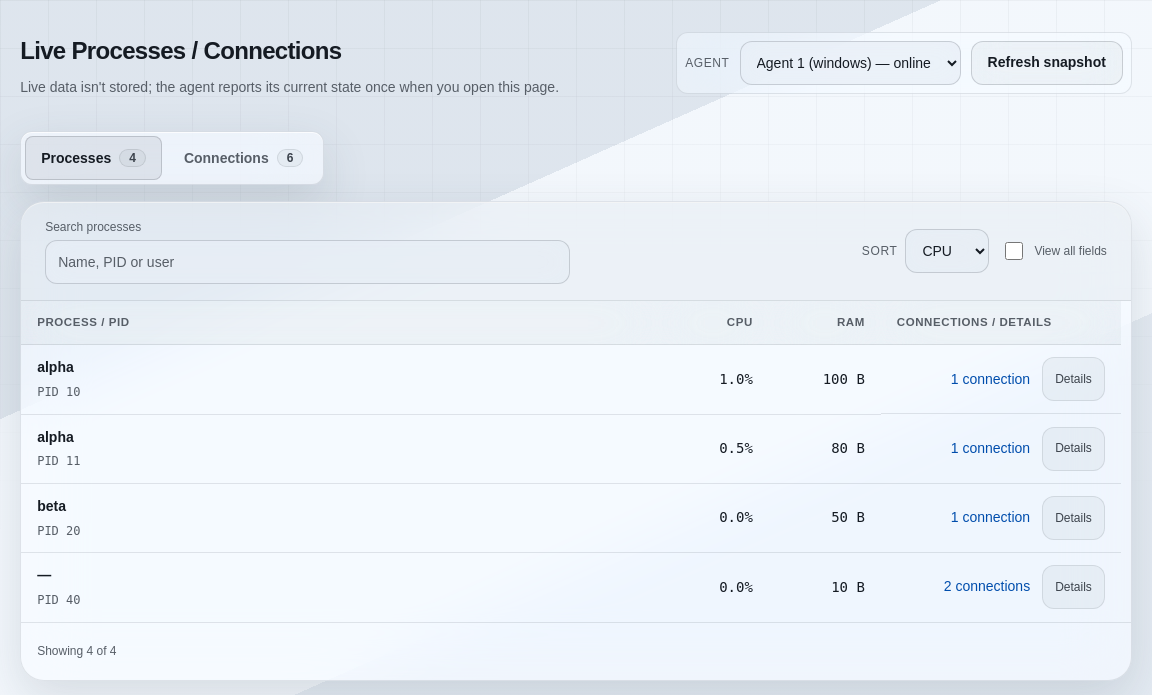
Test: Processes network-connection filtering › aggregates same-name PIDs by default and isolates an exact PID on demand
Click the button with class "connection-action" in the row of "PID 10" at (990, 380), box [951, 358, 1030, 402]
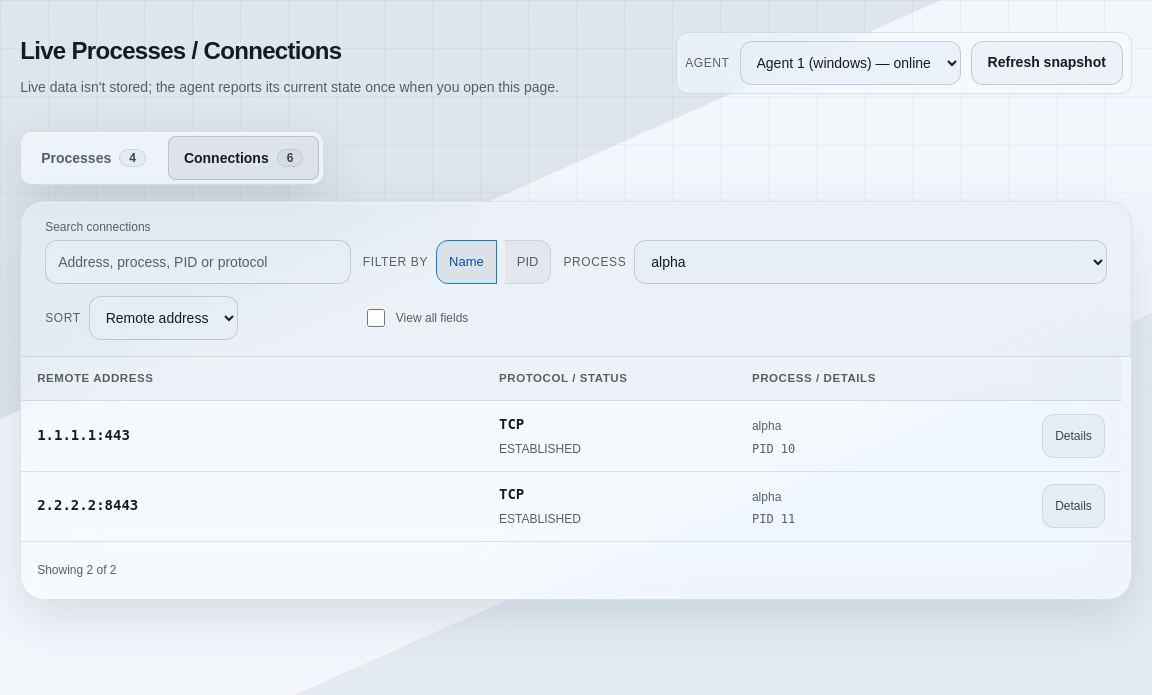
Result: the panel shows "1.1.1.1:443" at [37, 427, 130, 443]
Result: the panel shows "2.2.2.2:8443" at [37, 497, 138, 513]
Result: the dropdown with id "conn-filter" shows "alpha" at [634, 240, 1107, 284]
Click the button "PID" at (528, 262), box [505, 240, 551, 284]
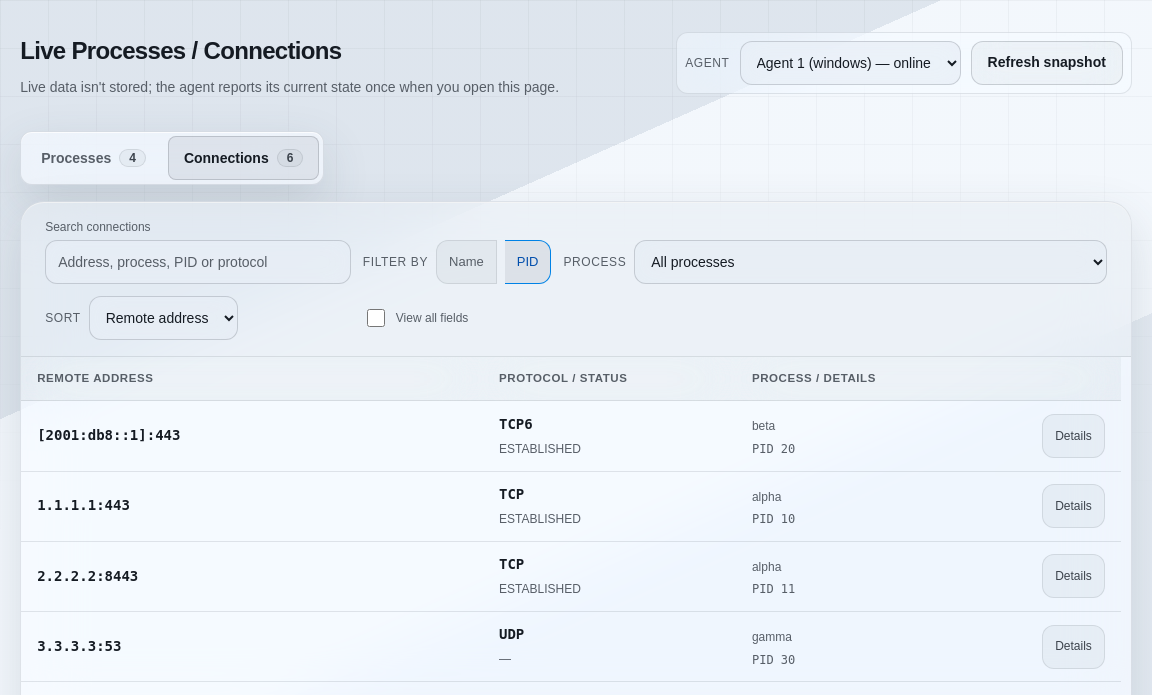
Result: the dropdown with id "conn-filter" shows "All processes"
Select "alpha (10)" in the dropdown with id "conn-filter" at (871, 262), box [634, 240, 1107, 284]
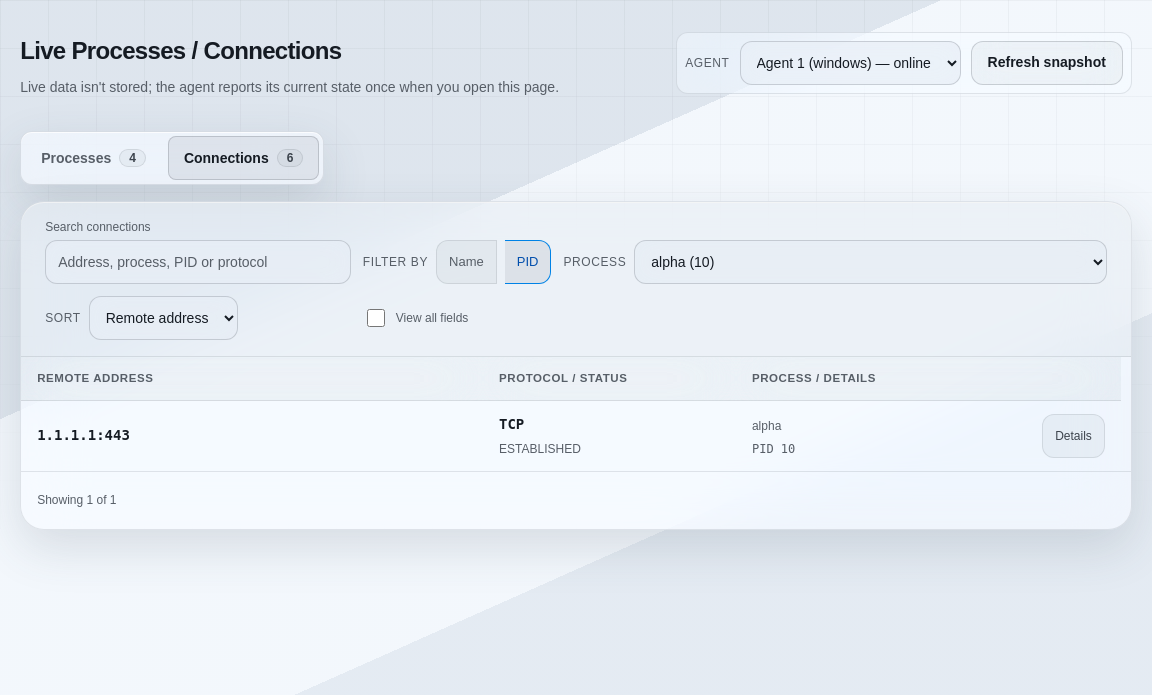
Result: the panel shows "1.1.1.1:443" at [37, 427, 130, 443]
Result: the text "2.2.2.2:8443" is gone
